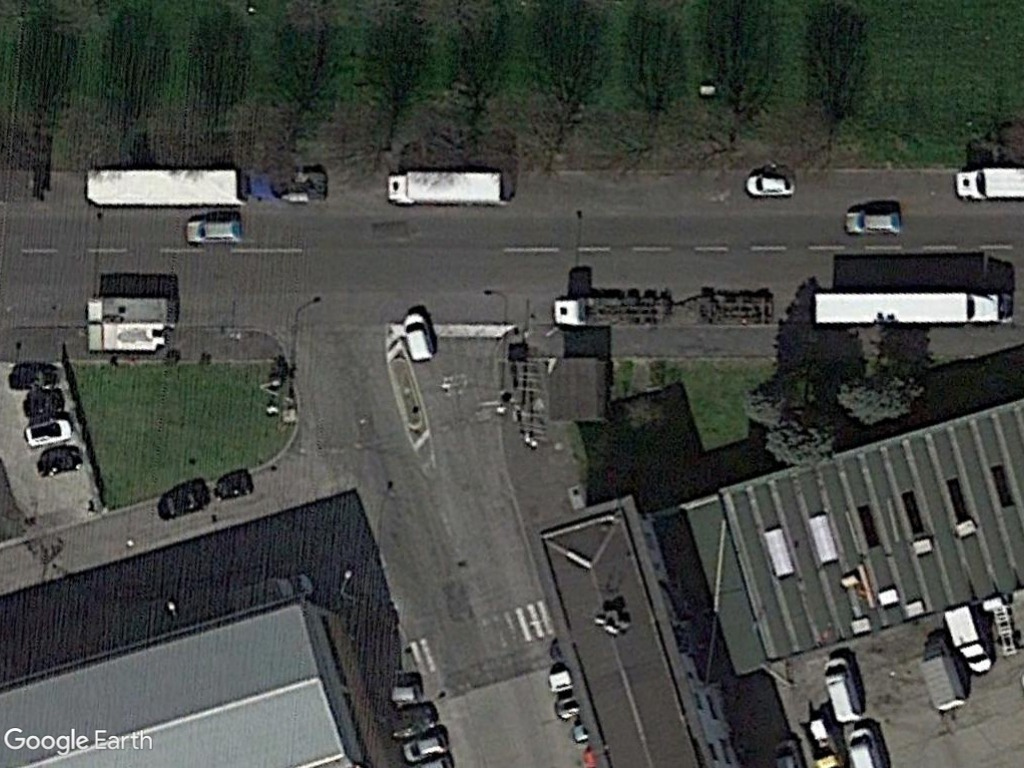car: (181, 213, 247, 248), (838, 206, 905, 238), (399, 728, 448, 767), (742, 171, 801, 200)
longvehicle: (807, 286, 1017, 328), (83, 164, 254, 208)
truck: (382, 169, 517, 208), (914, 639, 969, 715), (939, 603, 995, 677), (817, 656, 867, 726), (83, 294, 182, 328), (952, 164, 1024, 204)
van: (398, 310, 439, 365)
